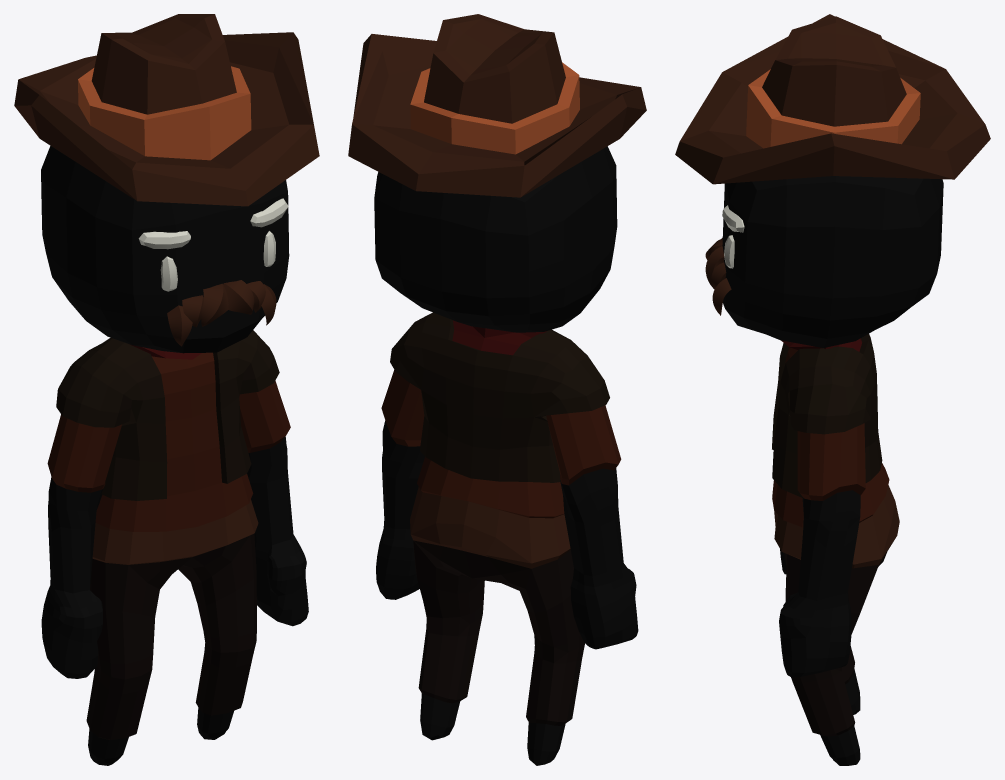
File: Cowboy_Male.obj
The picture shows the model from 3 angles, left to right: view 1: azimuth 30°, elevation 25°; view 2: azimuth 150°, elevation 25°; view 3: azimuth 270°, elevation 25°; orthographic projection. The views are drawn at different scales.
Parts seen in each view (by area): view 1: Body_Cube.004; view 2: Body_Cube.004; view 3: Body_Cube.004.
Boxes of the visible parts, x1,y1,x2,y2 form: Body_Cube.004: (14,14,319,765); Body_Cube.004: (348,14,646,765); Body_Cube.004: (675,14,990,765).
Size of the model in its own units: 1.34 by 3.47 by 1.42.
